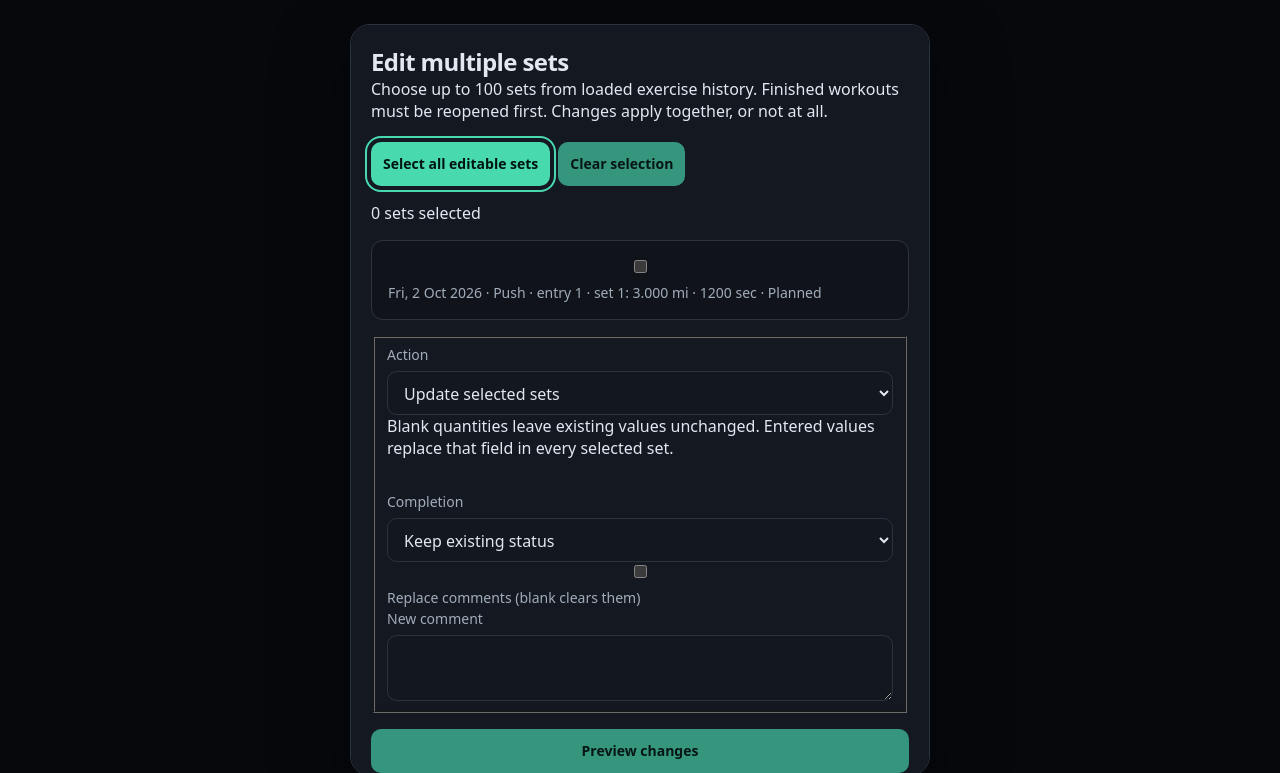
uses saved cardio fields and prevents an empty update
The width and height of the screenshot is (1280, 773).
Click the button "Select all editable sets" at (461, 164), box [371,142,550,186]
(page scrolled)
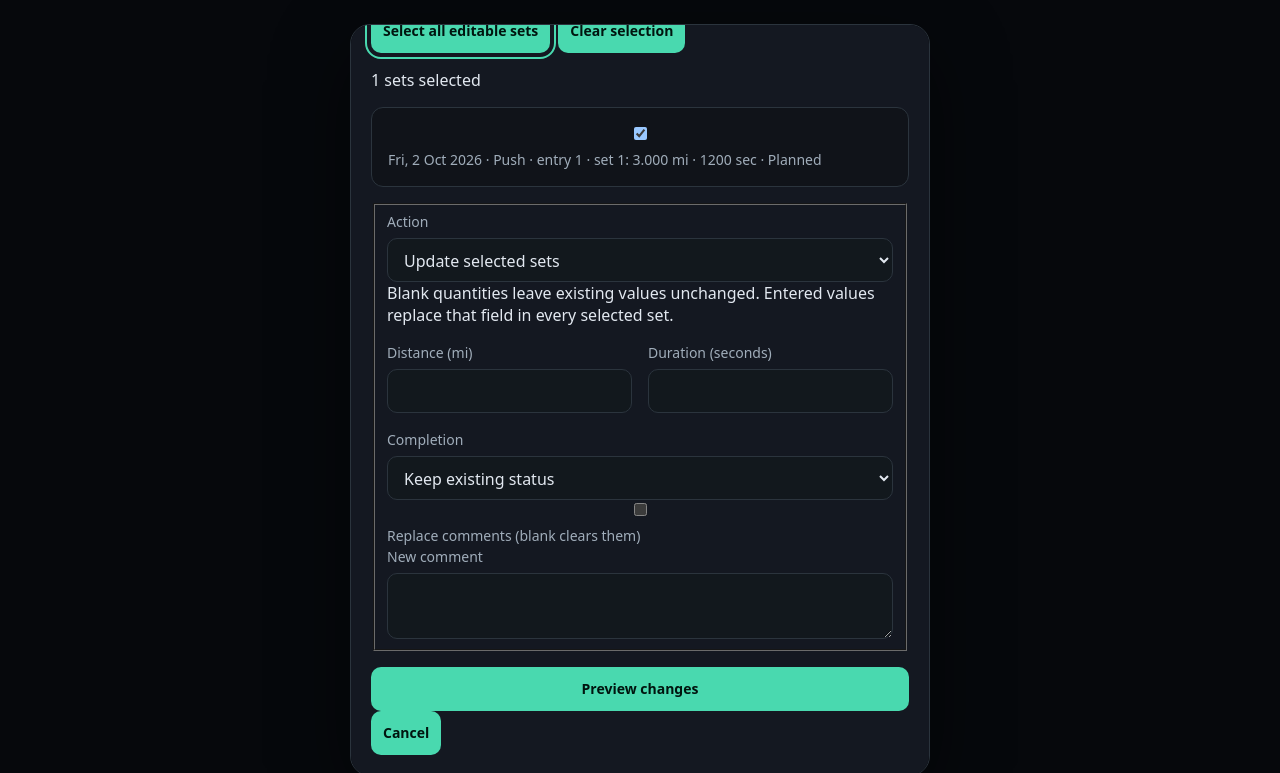
Expected: the number field labelled "Distance (mi)" is shown, [387,369,632,413]
Click the button "Preview changes" at (640, 689), box [371,667,909,711]
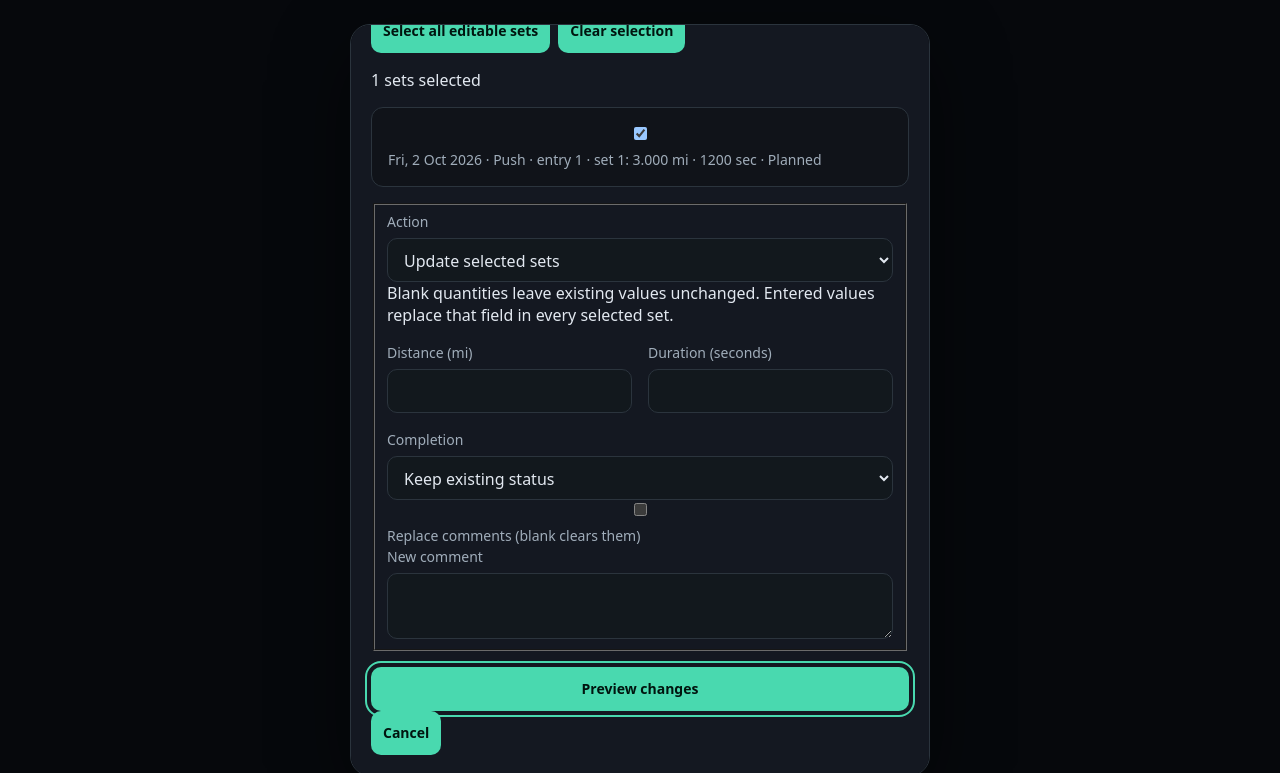
Type "1500" into the number field labelled "Duration (seconds)" at (770, 391), box [648,369,893,413]
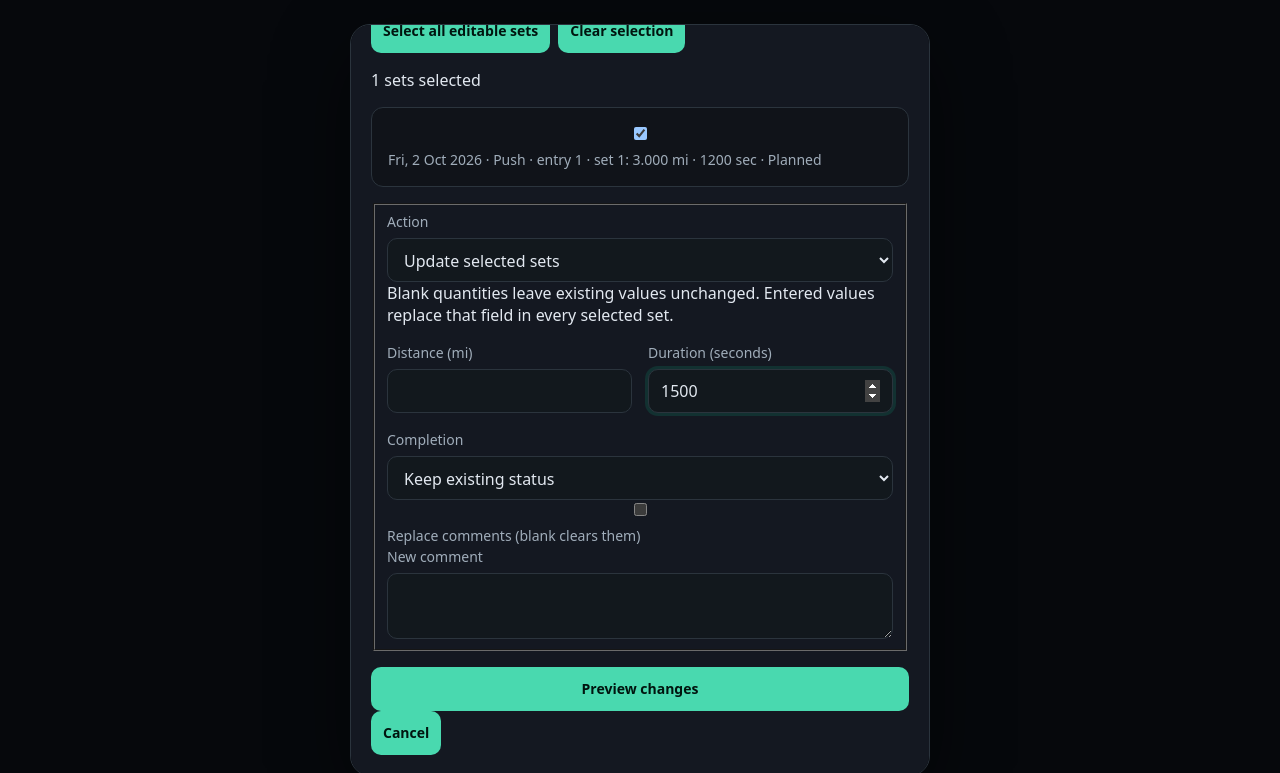
Click the button "Preview changes" at (640, 689), box [371,667,909,711]
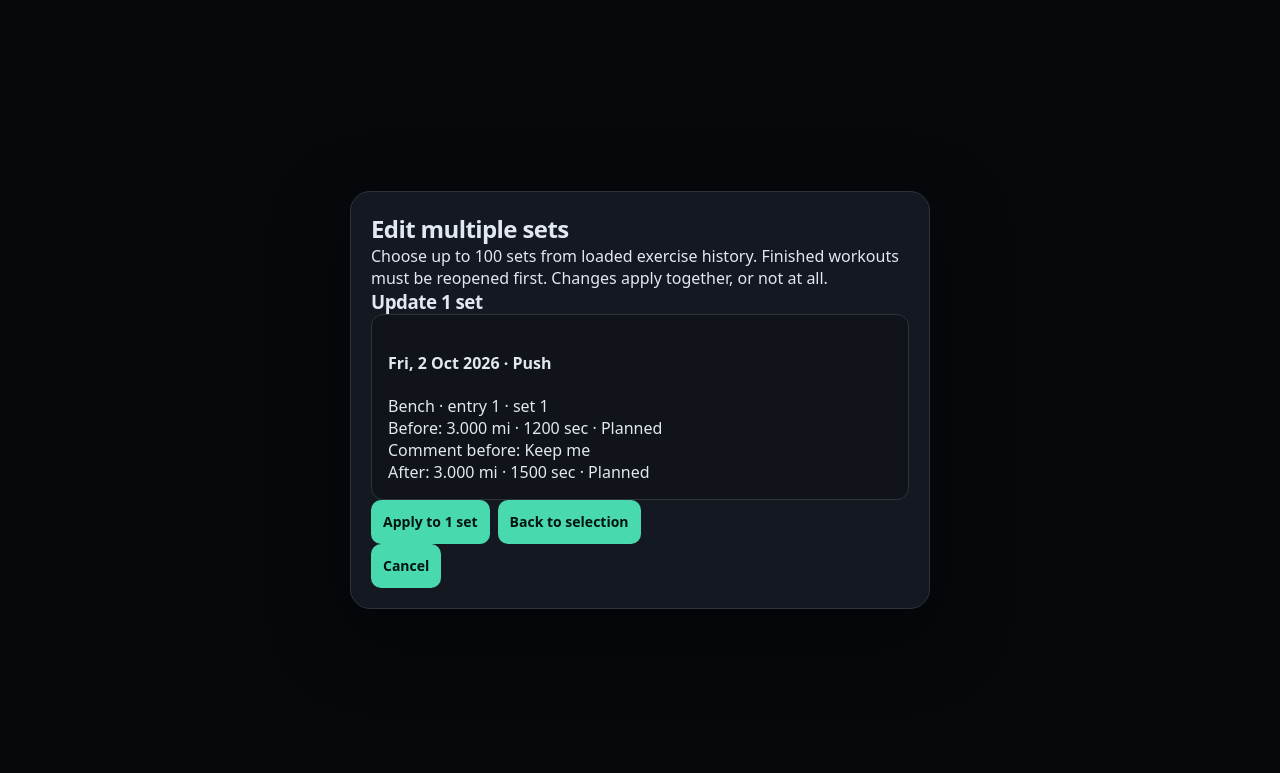
Expected: the text "After: 3.000 mi · 1500 sec · Planned" is shown, [388,461,650,483]
